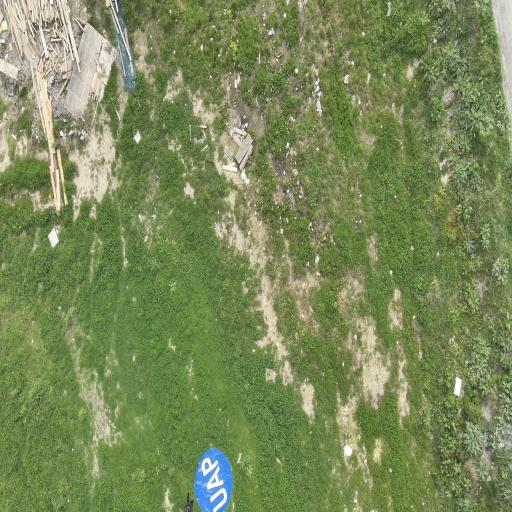UAP: (195, 448, 232, 511)
person: (184, 493, 193, 511)
